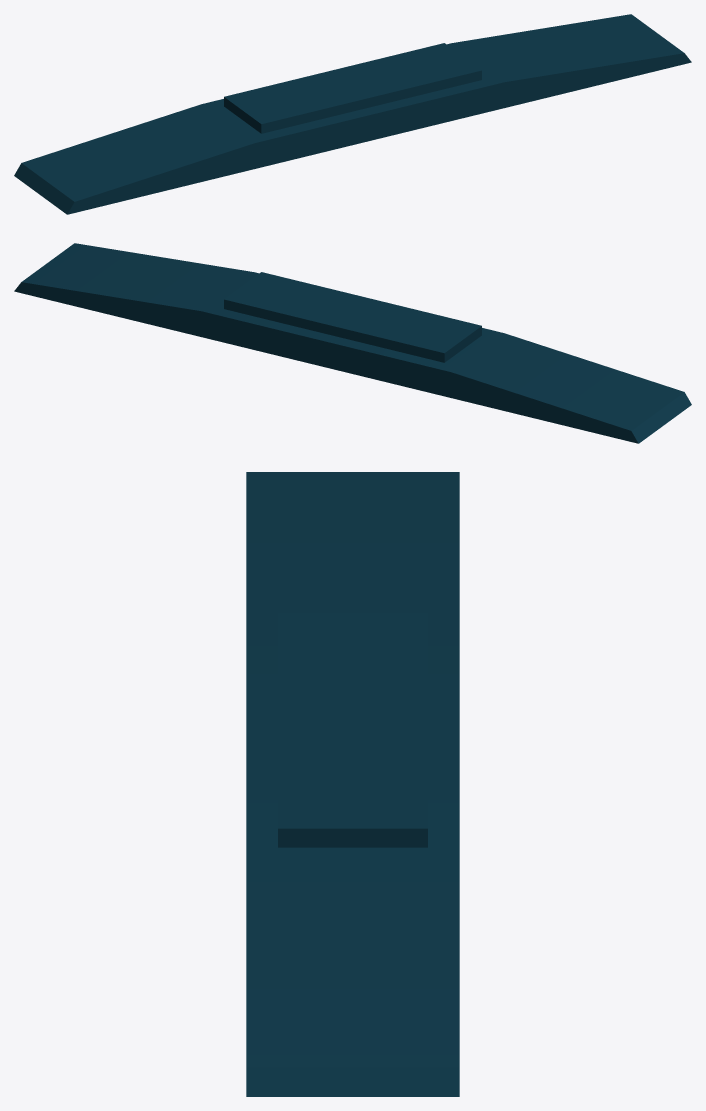
File: Itr_Obj_Monitor_LCD_Base_03.FBX
3 views of the same model, one above another, from view 1: azimuth 30°, elevation 25°; view 2: azimuth 150°, elevation 25°; view 3: azimuth 270°, elevation 25° (orthographic). The views are drawn at different scales.
Visible parts, largest first — view 1: Itr_Obj_Monitor_LCD_Base_03; view 2: Itr_Obj_Monitor_LCD_Base_03; view 3: Itr_Obj_Monitor_LCD_Base_03.
Part boxes in pixels (x1,y1,x2,y2): Itr_Obj_Monitor_LCD_Base_03: [14, 14, 691, 214]; Itr_Obj_Monitor_LCD_Base_03: [14, 243, 691, 443]; Itr_Obj_Monitor_LCD_Base_03: [246, 472, 459, 1096].
Bounding box in the file's own units: 38.49 × 2.09 × 5.68.
